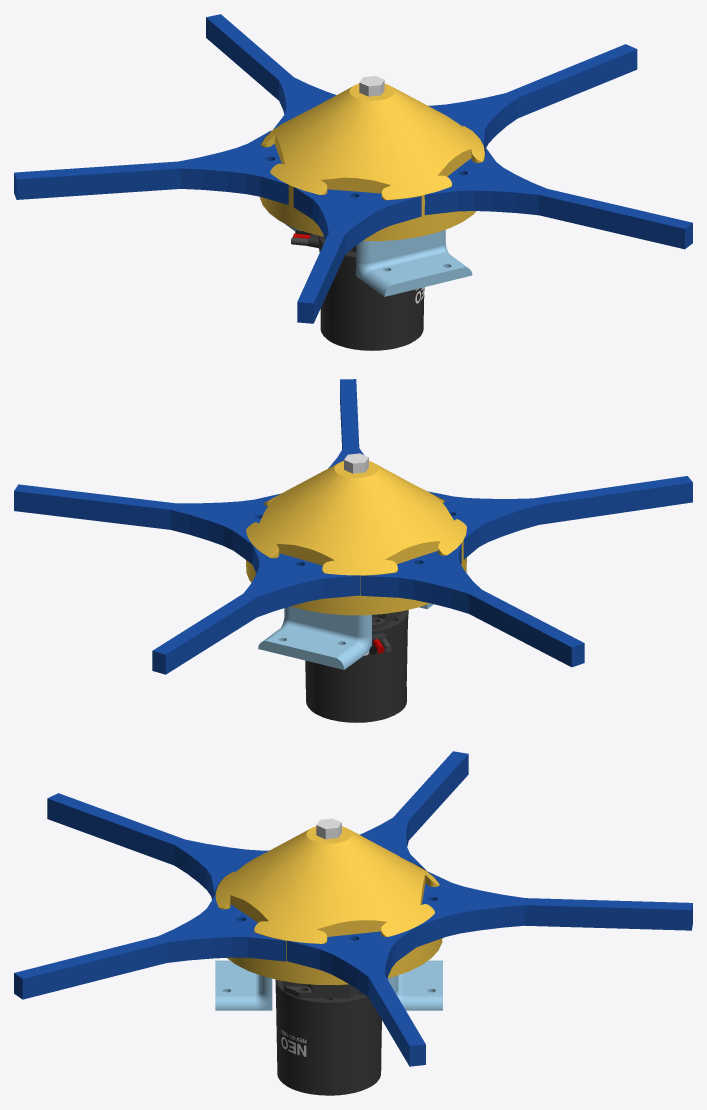
3 renders of one model, top to bottom at view 1: azimuth 30°, elevation 25°; view 2: azimuth 150°, elevation 25°; view 3: azimuth 270°, elevation 25°, orthographic. The views are drawn at different scales.
Visible parts, largest first — view 1: Spindexer arm (×5), Spindexer centre, NEO Brushless Motor V1.1 (Cut Shaft), Part 1; view 2: Spindexer arm (×5), Spindexer centre, NEO Brushless Motor V1.1 (Cut Shaft), Part 1; view 3: Spindexer arm (×5), Spindexer centre, NEO Brushless Motor V1.1 (Cut Shaft), Part 1, MAXPlanetary Input Slice.
Boxes of the visible parts, x1=… form: Spindexer arm (×5): x1=14, y1=14, x2=692, y2=323; Spindexer centre: x1=259, y1=83, x2=484, y2=241; NEO Brushless Motor V1.1 (Cut Shaft): x1=291, y1=230, x2=424, y2=350; Part 1: x1=284, y1=223, x2=472, y2=296; Spindexer arm (×5): x1=14, y1=379, x2=692, y2=674; Spindexer centre: x1=246, y1=461, x2=466, y2=615; NEO Brushless Motor V1.1 (Cut Shaft): x1=305, y1=610, x2=408, y2=722; Part 1: x1=258, y1=603, x2=433, y2=669; Spindexer arm (×5): x1=14, y1=751, x2=692, y2=1066; Spindexer centre: x1=215, y1=826, x2=442, y2=985; NEO Brushless Motor V1.1 (Cut Shaft): x1=275, y1=979, x2=381, y2=1095; Part 1: x1=215, y1=960, x2=442, y2=1010; MAXPlanetary Input Slice: x1=283, y1=981, x2=362, y2=997.
Size of the model in its own units: 0.3894 by 0.1542 by 0.379.
